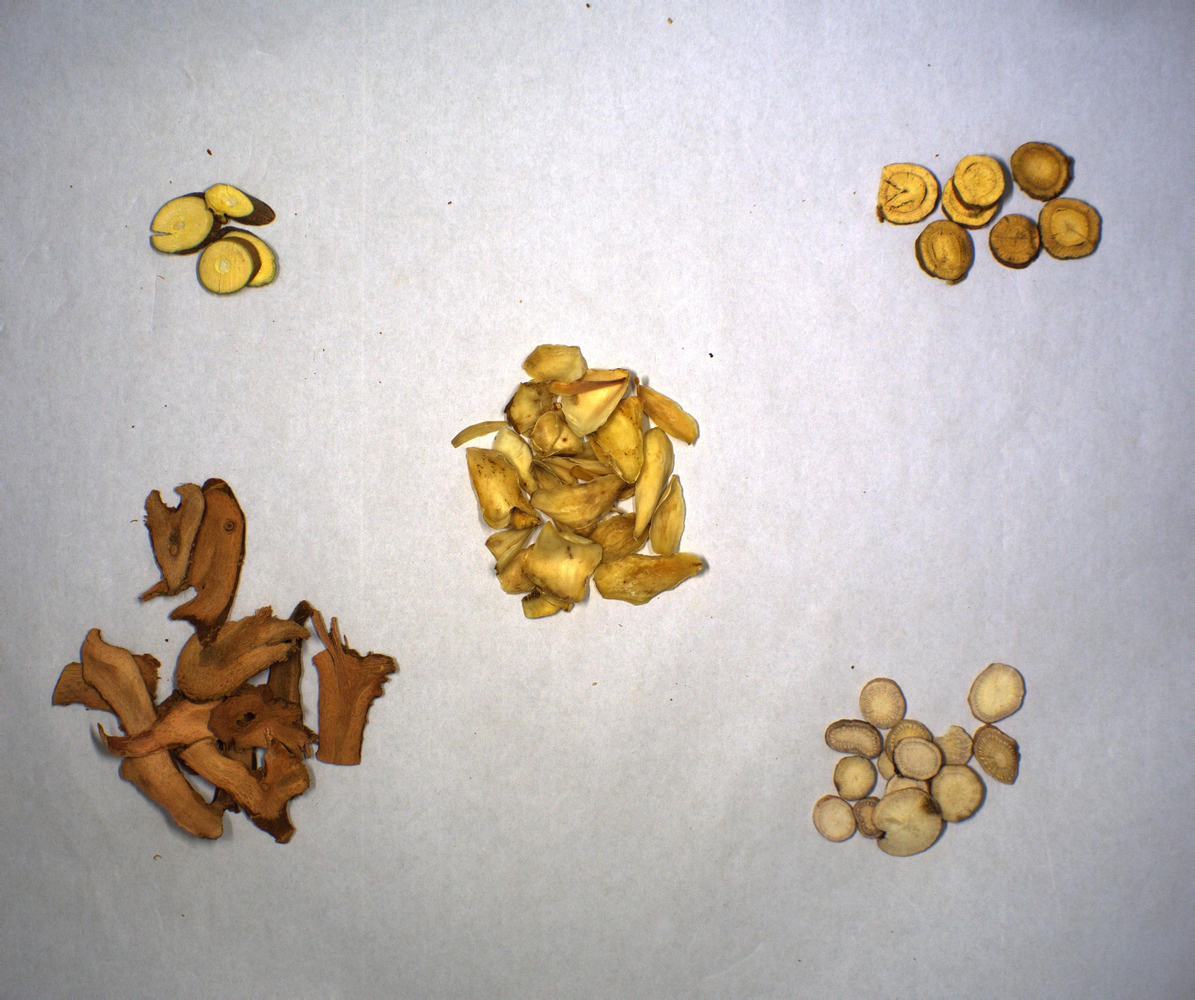baihe: (449, 341, 710, 623)
baishao: (811, 659, 1027, 856)
gancaopian: (873, 142, 1103, 285)
gaoliangjiang: (52, 479, 403, 843)
sangzhi: (149, 180, 282, 297)
